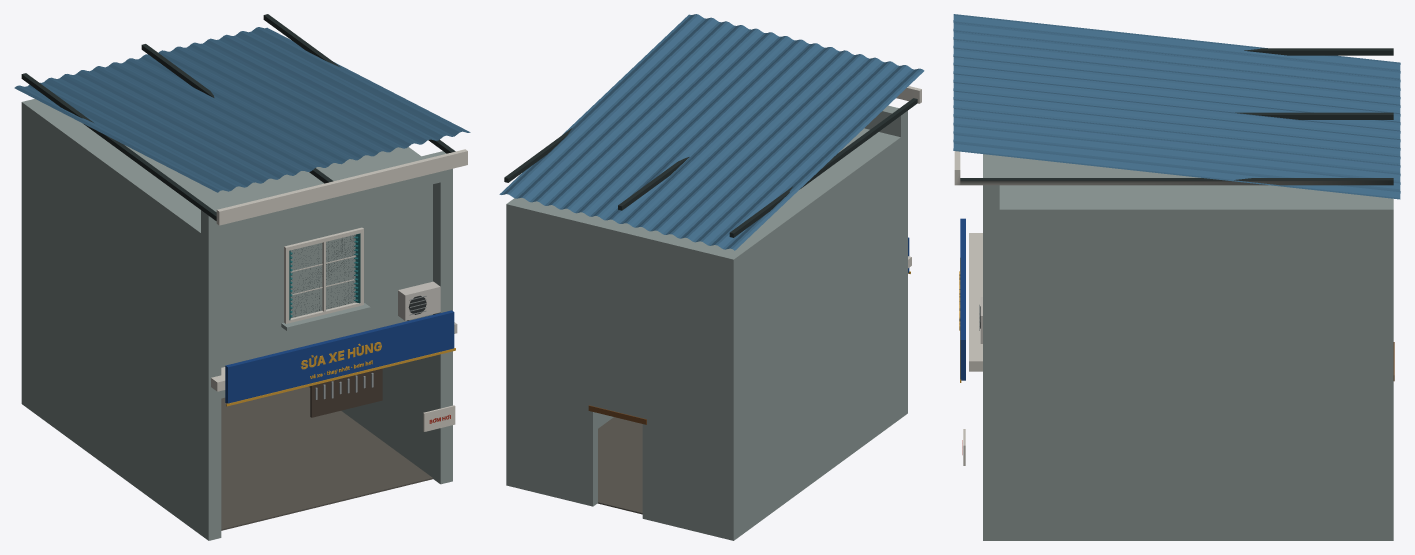
File: sua_xe.glb
3 views of the same model, side by side, from view 1: azimuth 30°, elevation 25°; view 2: azimuth 150°, elevation 25°; view 3: azimuth 270°, elevation 25° (orthographic). The views are drawn at different scales.
Visible parts, largest first — view 1: sua_xe; view 2: sua_xe; view 3: sua_xe.
Boxes of the visible parts, bbox=[...] form: sua_xe: bbox=[14, 14, 470, 540]; sua_xe: bbox=[499, 14, 924, 540]; sua_xe: bbox=[953, 14, 1400, 540].
Bounding box in the file's own units: 5.7 × 7.77 × 7.95.
